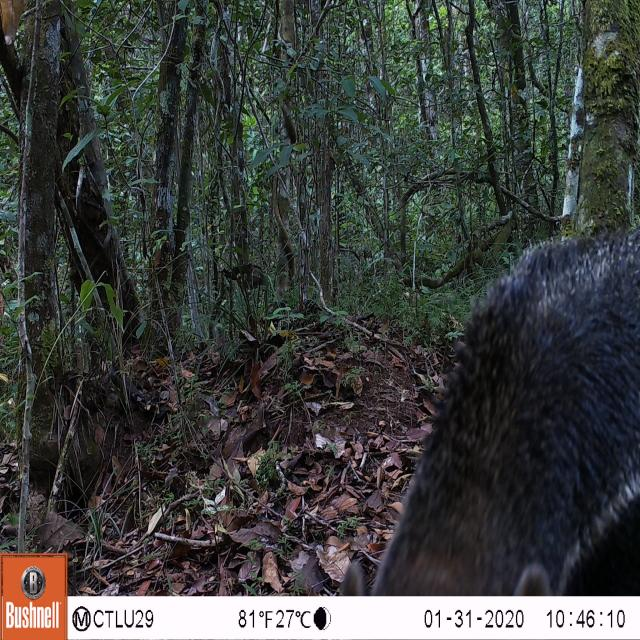Giant Anteater: (339, 224, 640, 595)
